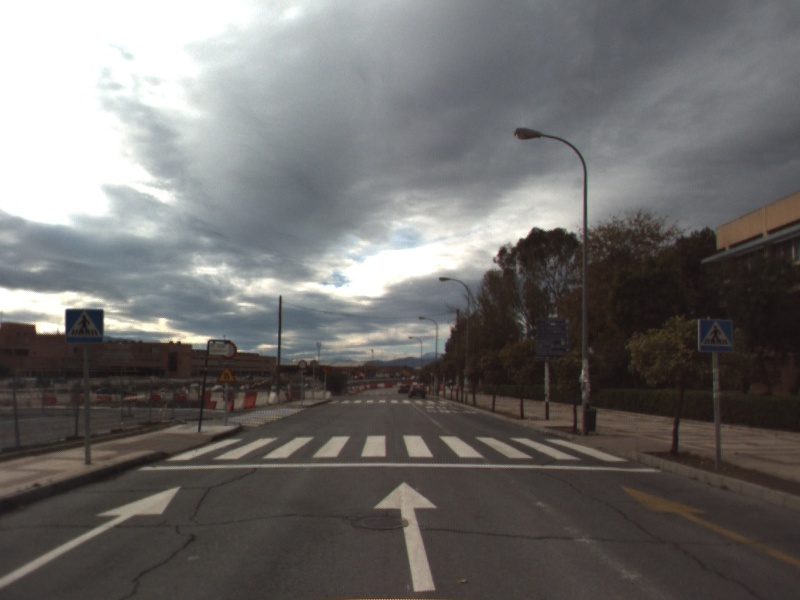STRAIGHT: (1, 484, 184, 588), (618, 483, 800, 568), (371, 479, 440, 594)
